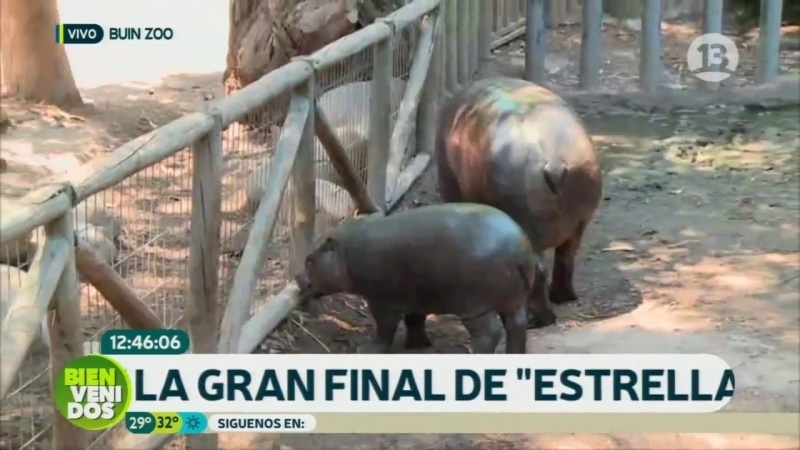hipopotamo: (425, 72, 606, 318), (293, 189, 547, 354)
